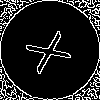X: (25, 25, 81, 75)
